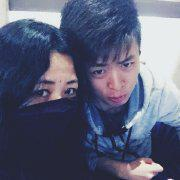NONE: (91, 51, 139, 105)
OK: (11, 73, 86, 148)
